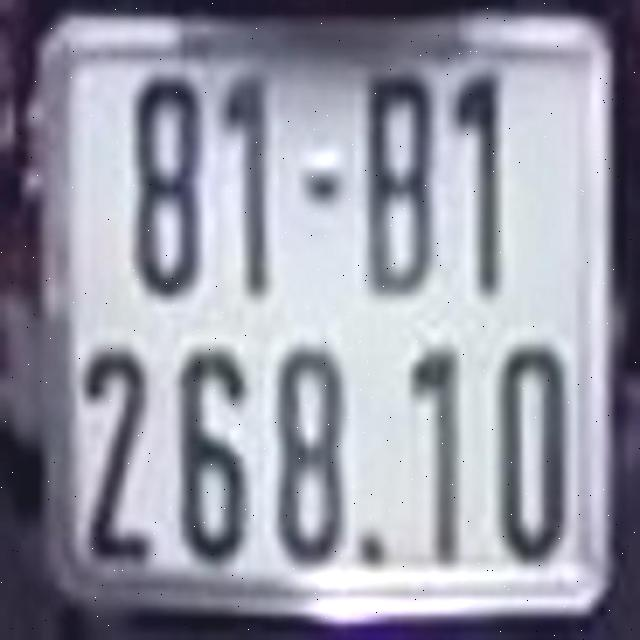0: (498, 342, 568, 562)
1: (451, 65, 510, 296), (221, 70, 277, 298), (409, 344, 464, 563)
2: (83, 352, 154, 561)
6: (178, 349, 248, 561)
8: (276, 345, 344, 565), (134, 78, 202, 298)
B: (363, 70, 436, 298)
